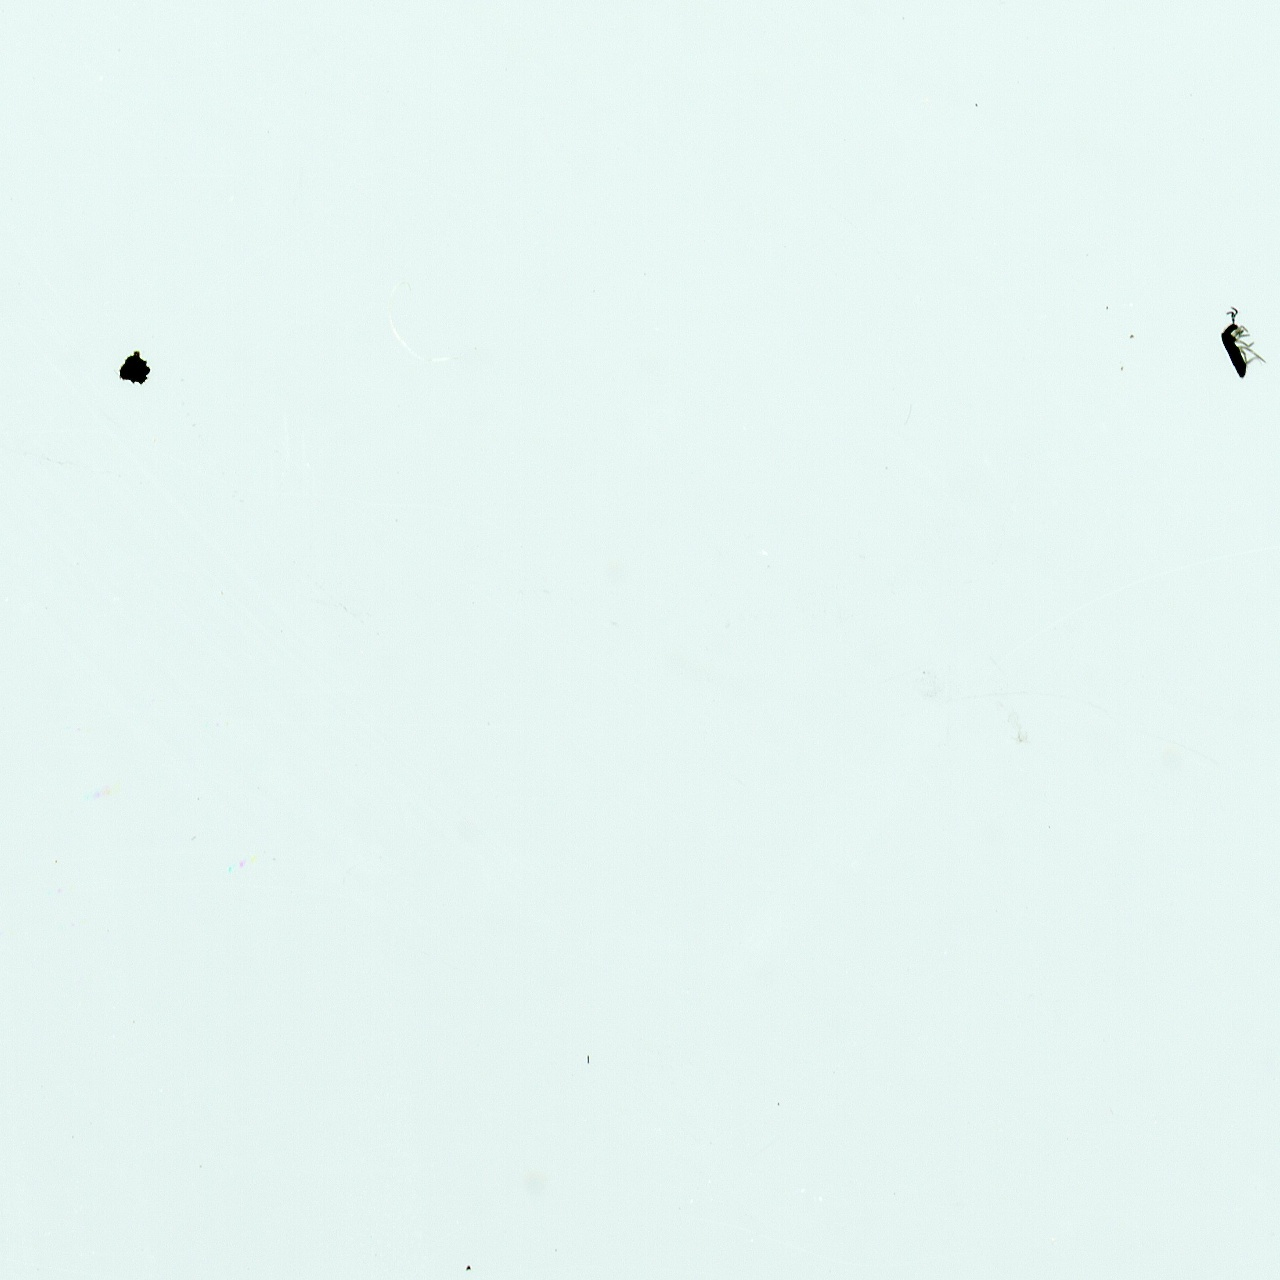arthropod: (1204, 297, 1280, 393)
